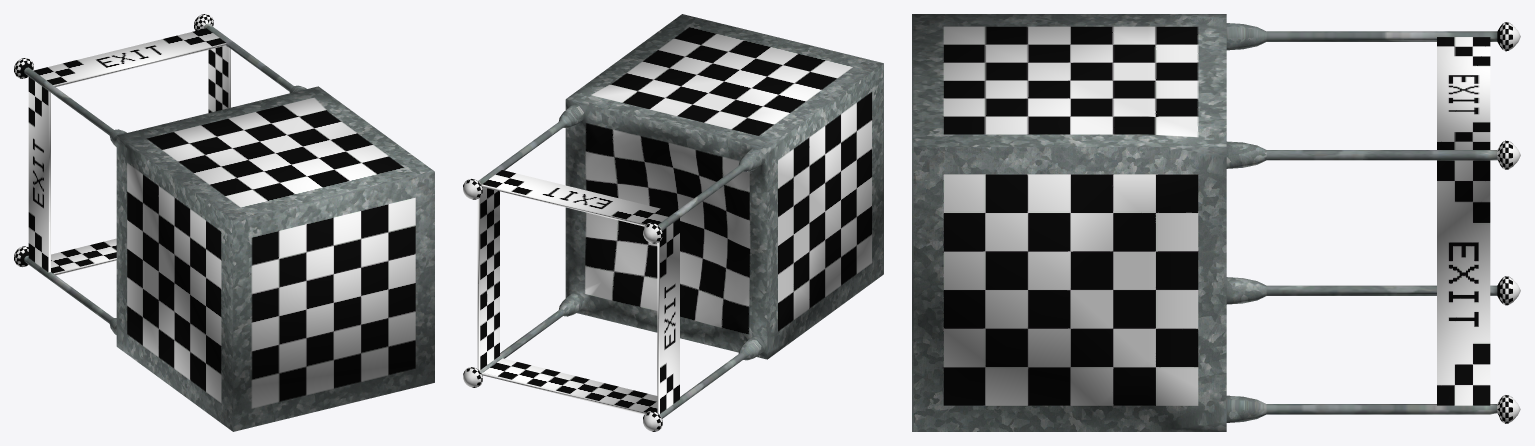
The model's file is Goal.fbx.
3 views of the same model, side by side, from view 1: azimuth 30°, elevation 25°; view 2: azimuth 150°, elevation 25°; view 3: azimuth 270°, elevation 25° (orthographic). The views are drawn at different scales.
Parts seen in each view (by area): view 1: Block; view 2: Block; view 3: Block.
Part boxes in pixels (bbox=[...]): Block: bbox=[14, 14, 434, 431]; Block: bbox=[463, 14, 883, 431]; Block: bbox=[912, 14, 1520, 431].
Bounding box in the file's own units: 1 × 1 × 1.94.
